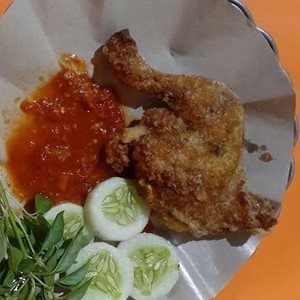ayam_goreng: (97, 29, 287, 236)
